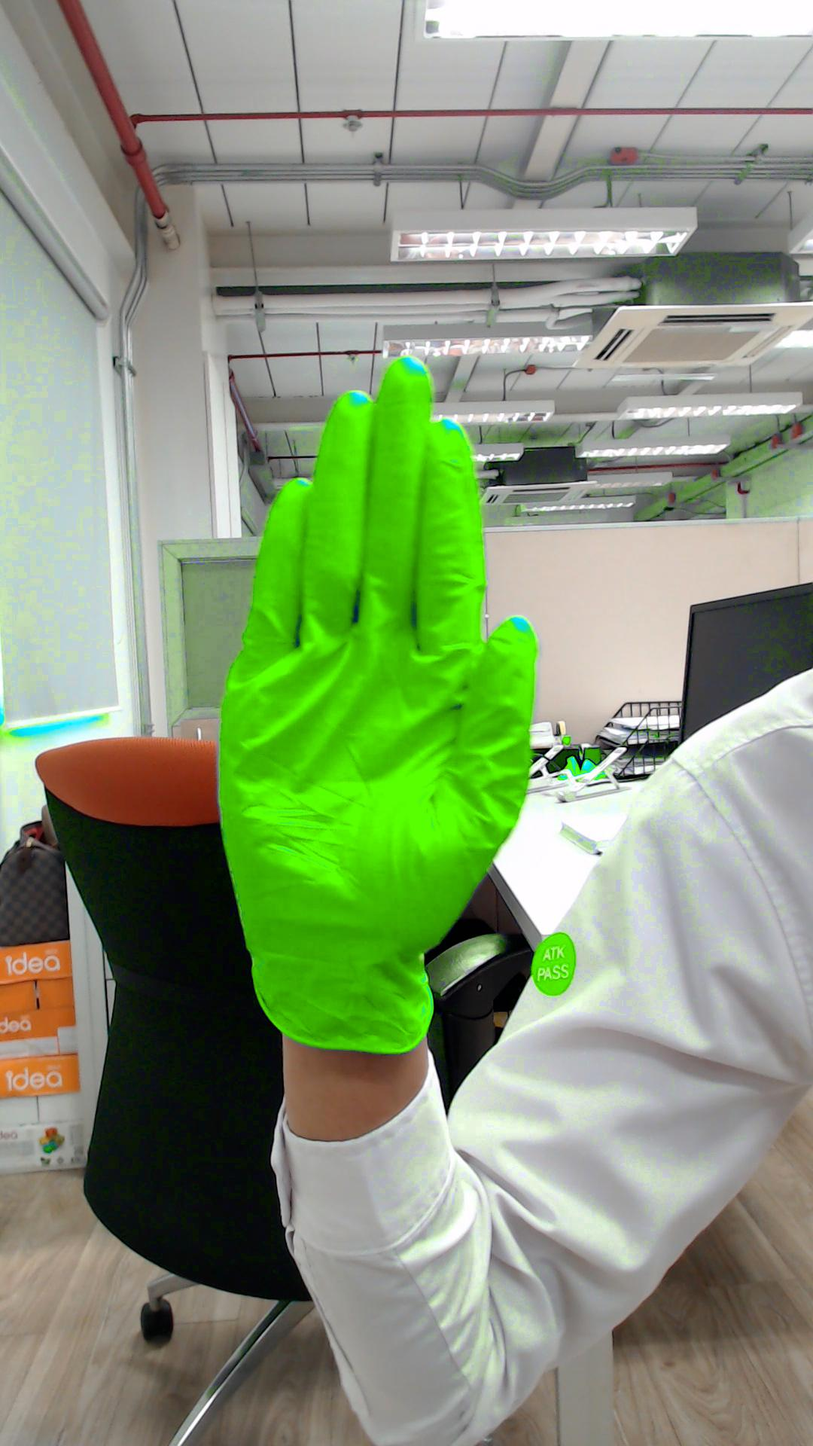gloves: (216, 339, 546, 896)
